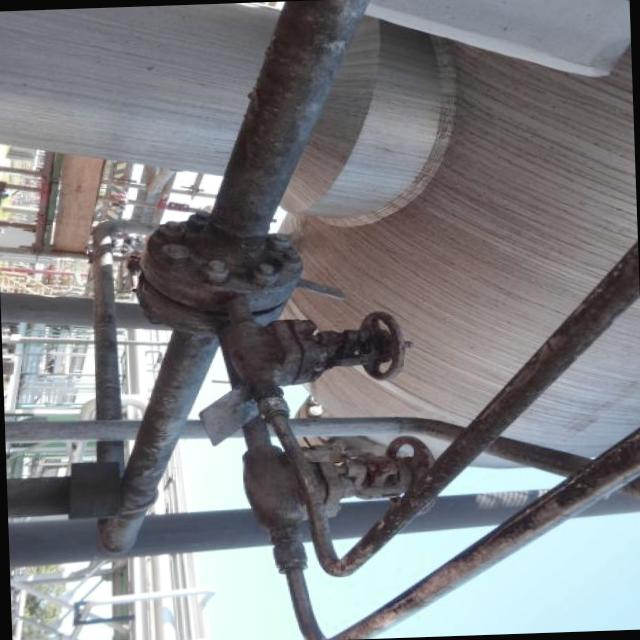gas: (97, 0, 363, 552), (221, 240, 639, 573), (220, 349, 640, 640), (7, 483, 640, 567), (3, 418, 640, 499), (5, 225, 155, 514)
